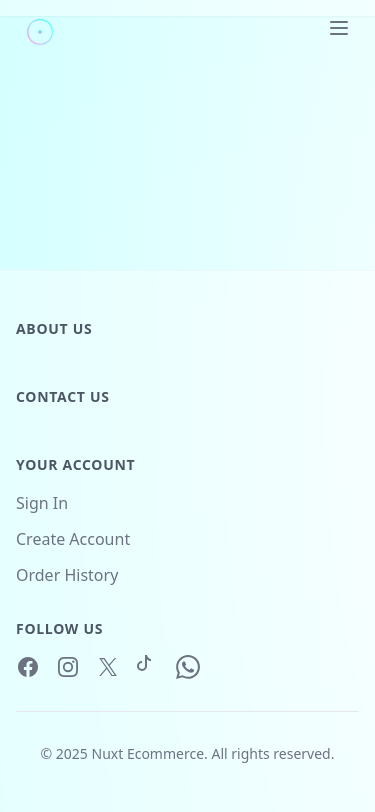
Test: Navigation › should open and close mobile menu when clicking menu button
The width and height of the screenshot is (375, 812).
Check: the navigation bar is shown, box [0,0,374,16]
Check: the element named "Open menu" is enabled
Wait for button and ensure it's ready
Click the button named "Open menu" at (339, 28), box [319,8,359,48]
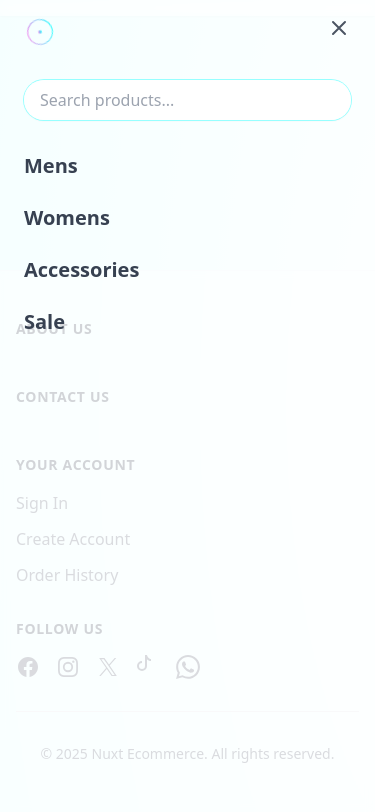
Check: the element with class "mobile-menu" is shown, box [0,0,374,16]
Check: the link "Mens" is shown, box [24,152,78,179]
Check: the link "Womens" is shown, box [24,204,110,231]
Click close button
Click the button named "Close menu" at (339, 28), box [319,8,359,48]
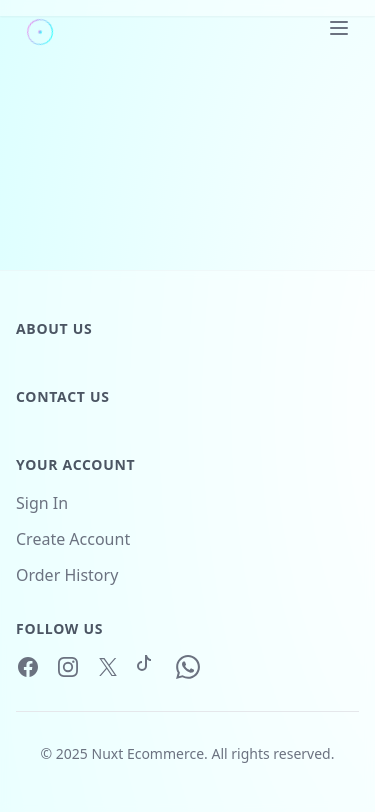
Check: the element with class "mobile-menu" is gone
